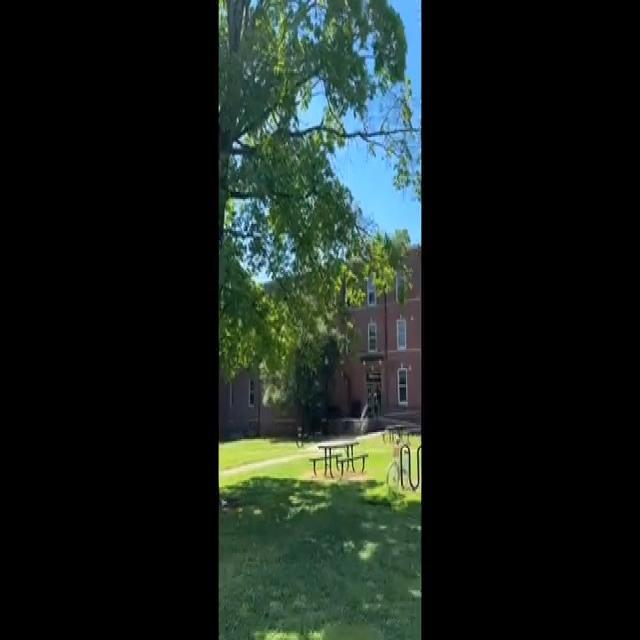drone: (335, 353, 349, 374)
